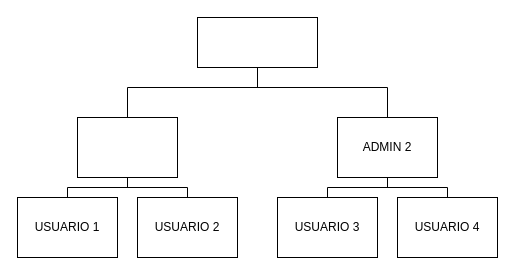
The diagram is 515 pixels wide and 275 high, and some of its shapes have lost their labels. Here are the shapes that lost their labels. From the top down, the centre of each, then its label:
At point (257, 42): "SUPER-USUARIO".
At point (127, 147): "ADMIN 1".
